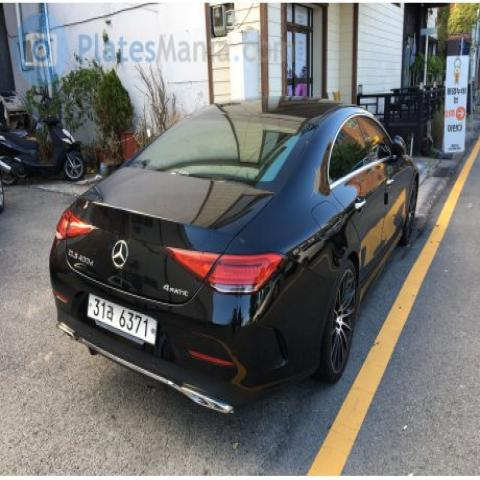LP: (77, 282, 169, 356)
